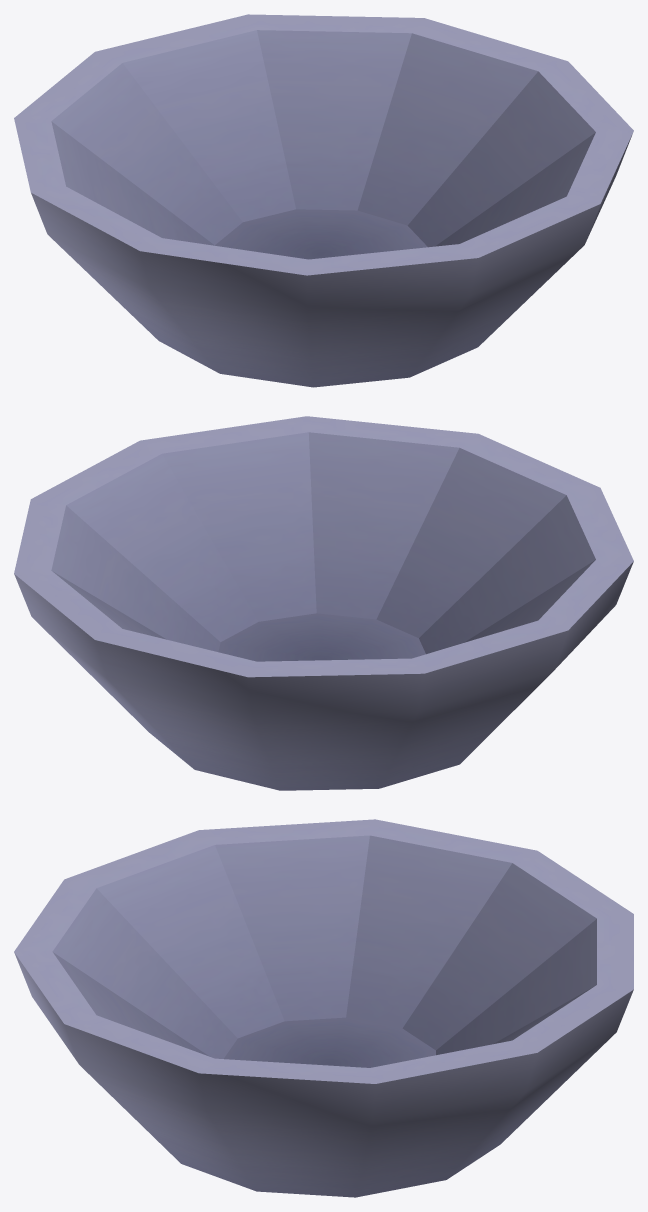
File: M_bowl.FBX
The picture shows the model from 3 angles, top to bottom: view 1: azimuth 30°, elevation 25°; view 2: azimuth 150°, elevation 25°; view 3: azimuth 270°, elevation 25°; orthographic projection.
Visible parts, largest first — view 1: Sphere015; view 2: Sphere015; view 3: Sphere015.
Part boxes in pixels (left/top/right/bottom): Sphere015: left=14, top=14, right=633, bottom=387; Sphere015: left=14, top=416, right=633, bottom=790; Sphere015: left=14, top=819, right=633, bottom=1197.
Size of the model in its own units: 28.81 by 28.51 by 10.33.
